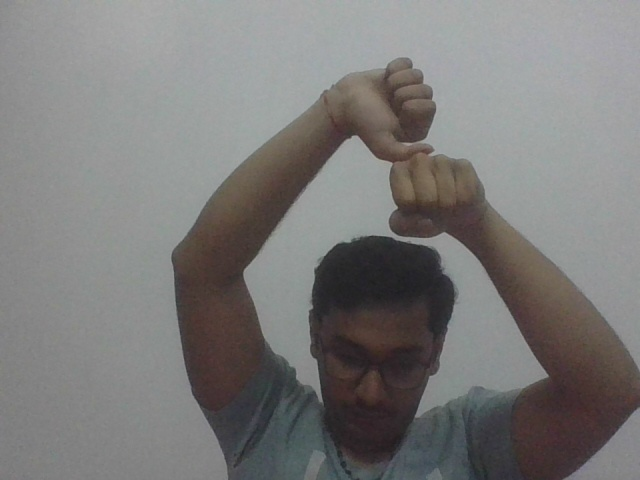S: (348, 54, 492, 242)
